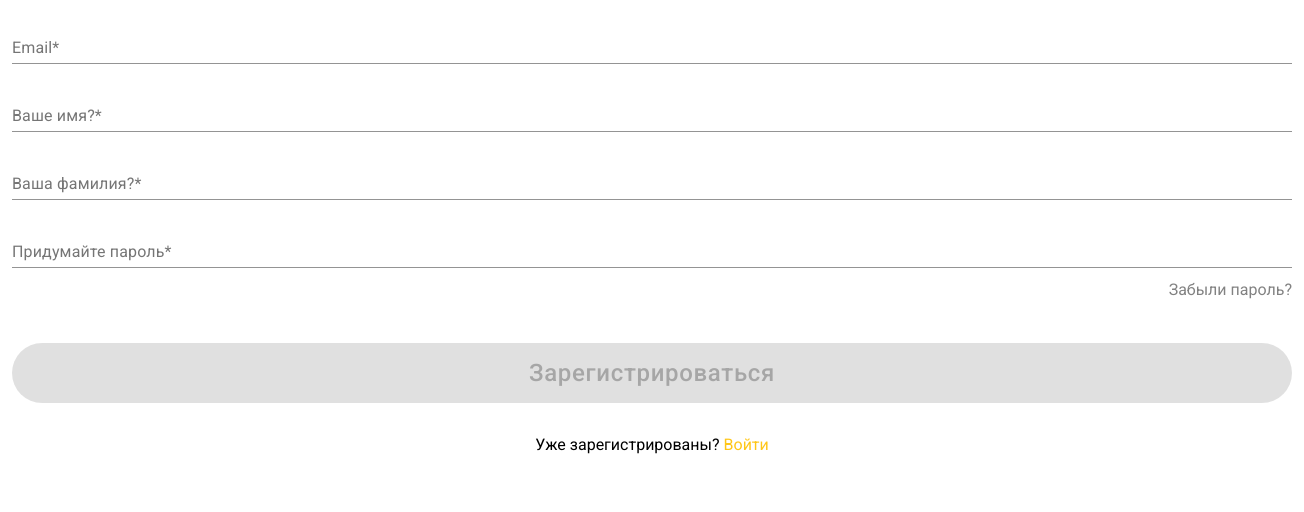
it: Форма регистрации › При неуспешном сабмите формы появляется сообщение об ошибке
The width and height of the screenshot is (1304, 512).
Type "user@mail.ru" into the field with test id "registration-form-email". click: [652, 48]
box: [12,32,1292,64]
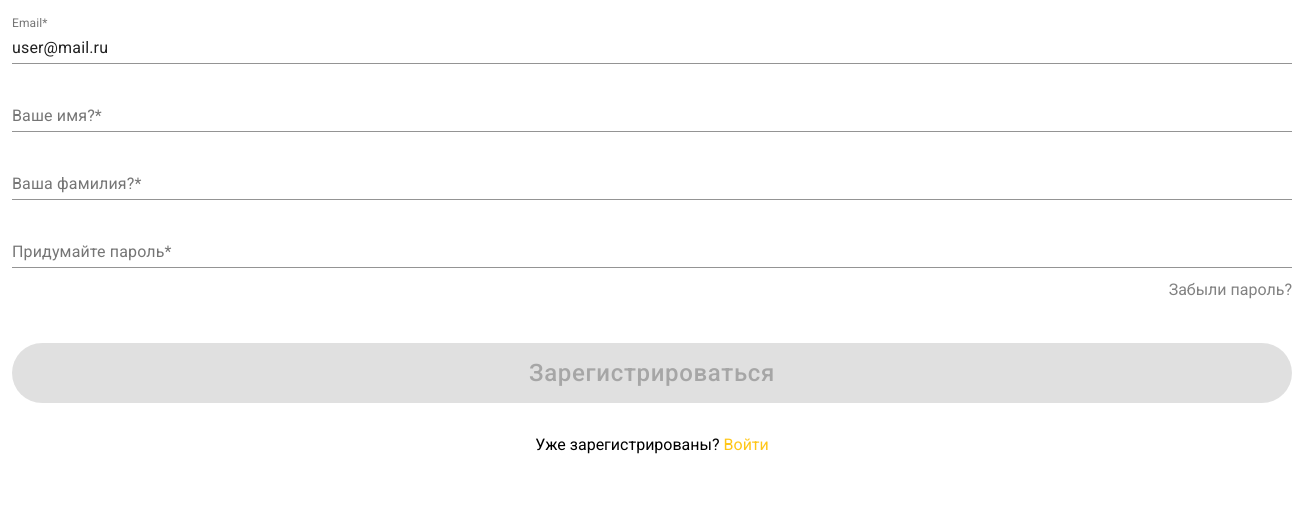
Type "John" into the field with test id "registration-form-name". click: [652, 116]
box: [12,100,1292,132]
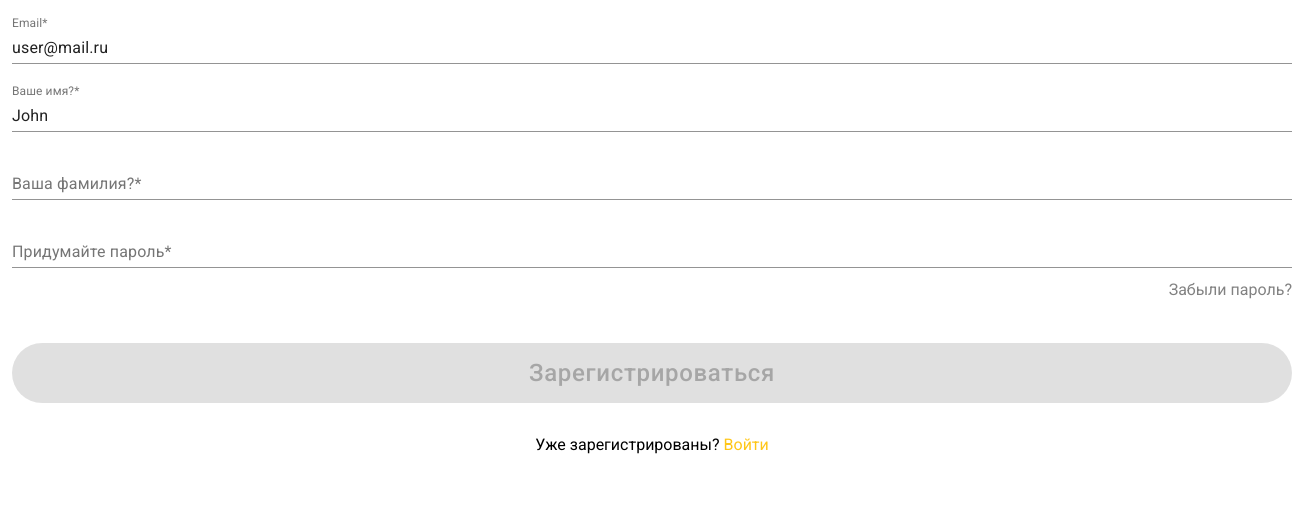
Type "Dou" into the field with test id "registration-form-surname". click: [652, 184]
box: [12,168,1292,200]
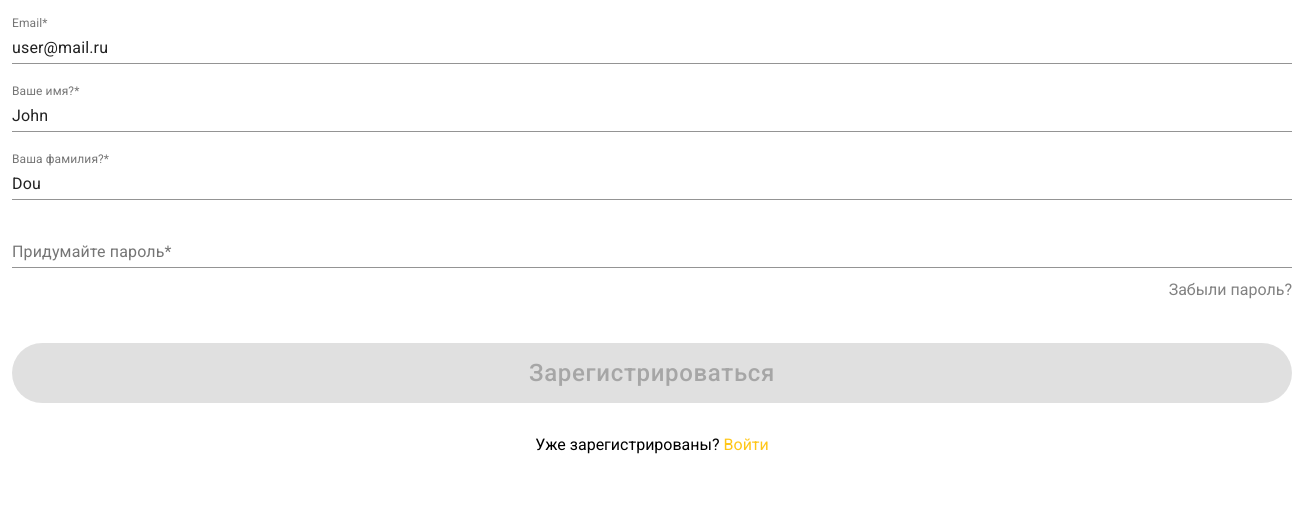
Type "test" into the password field with test id "registration-form-password". click: [652, 252]
box: [12,236,1292,268]
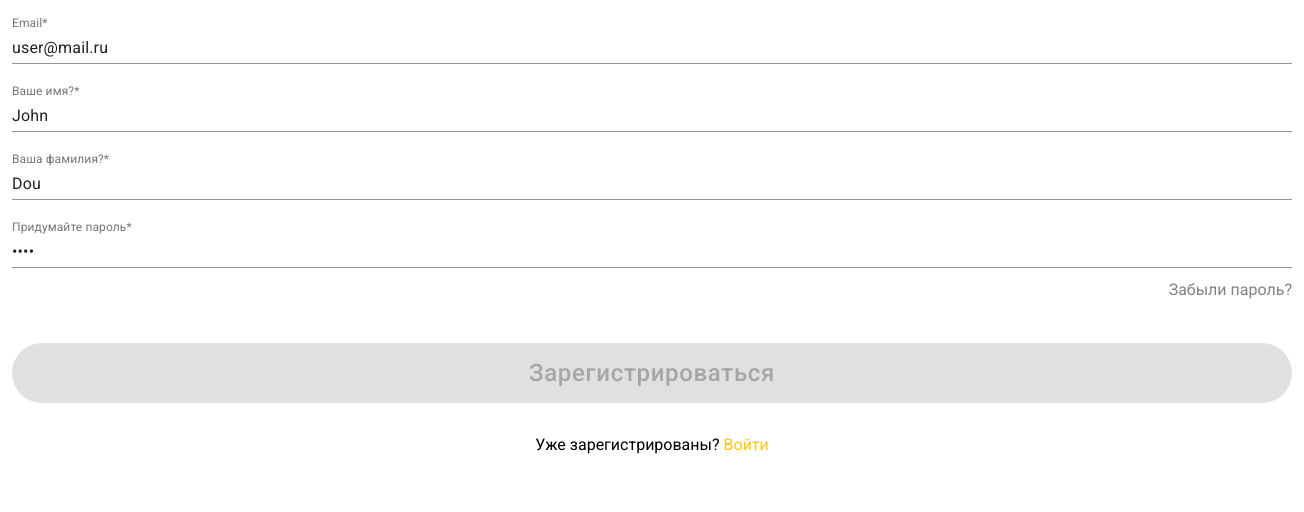
Submit the form with test id "registration-form"
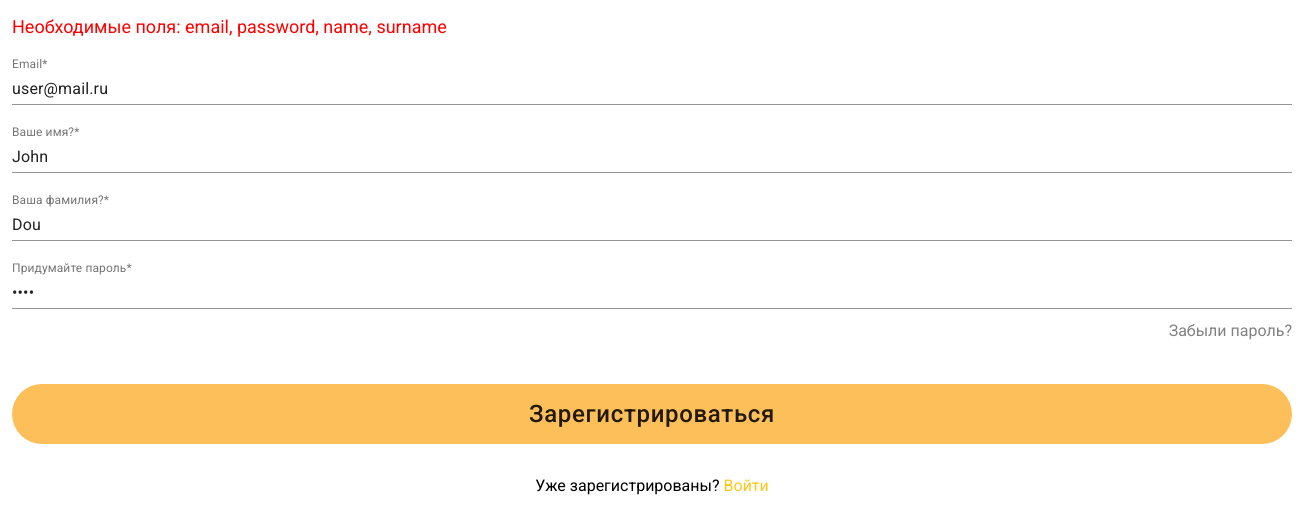
Now the text "Необходимые поля: email, password, name, surname" is shown, box [12,16,447,37]
